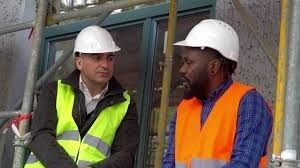helmet: (170, 16, 242, 67), (69, 22, 124, 55)
person with full safety: (160, 16, 275, 167), (28, 22, 141, 167)
safety vest: (39, 80, 127, 167), (174, 81, 260, 166)
